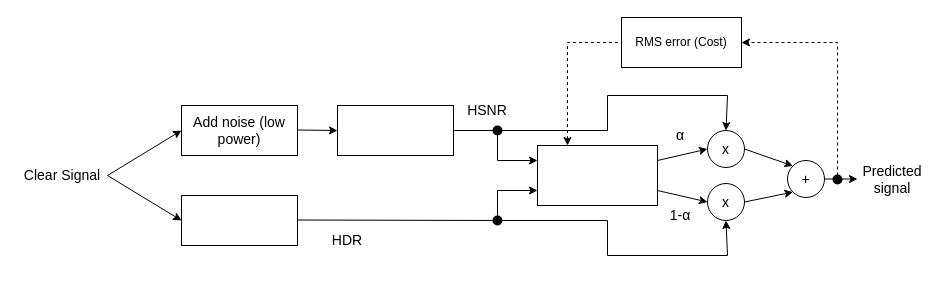
The diagram is 944 pixels wide and 281 high, and some of its shapes have lost their labels. Here are the shapes that lost their labels. From the top down, the centre of each, then its label:
At (395,130): "Add distortion".
At (597,175): "Neural Network".
At (239,220): "Add Noise (high powe)".
